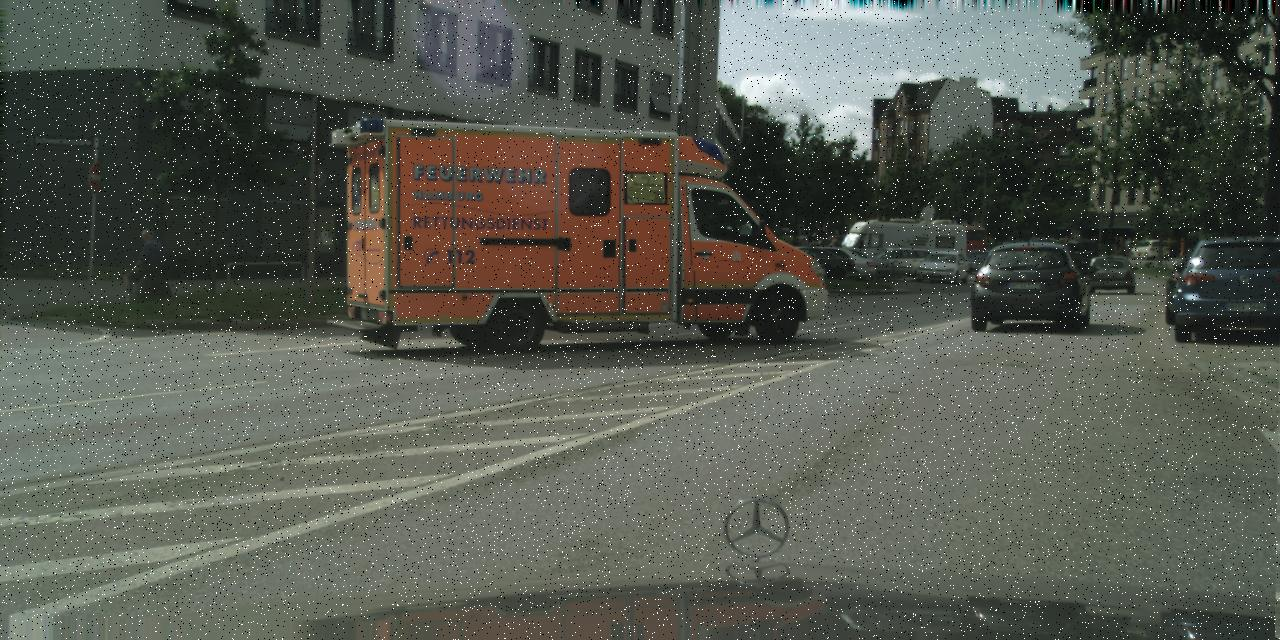ped: (833, 237, 845, 268), (809, 235, 819, 261), (798, 233, 808, 259), (829, 236, 839, 261), (1123, 236, 1133, 256), (821, 236, 830, 256), (1112, 236, 1119, 255)
